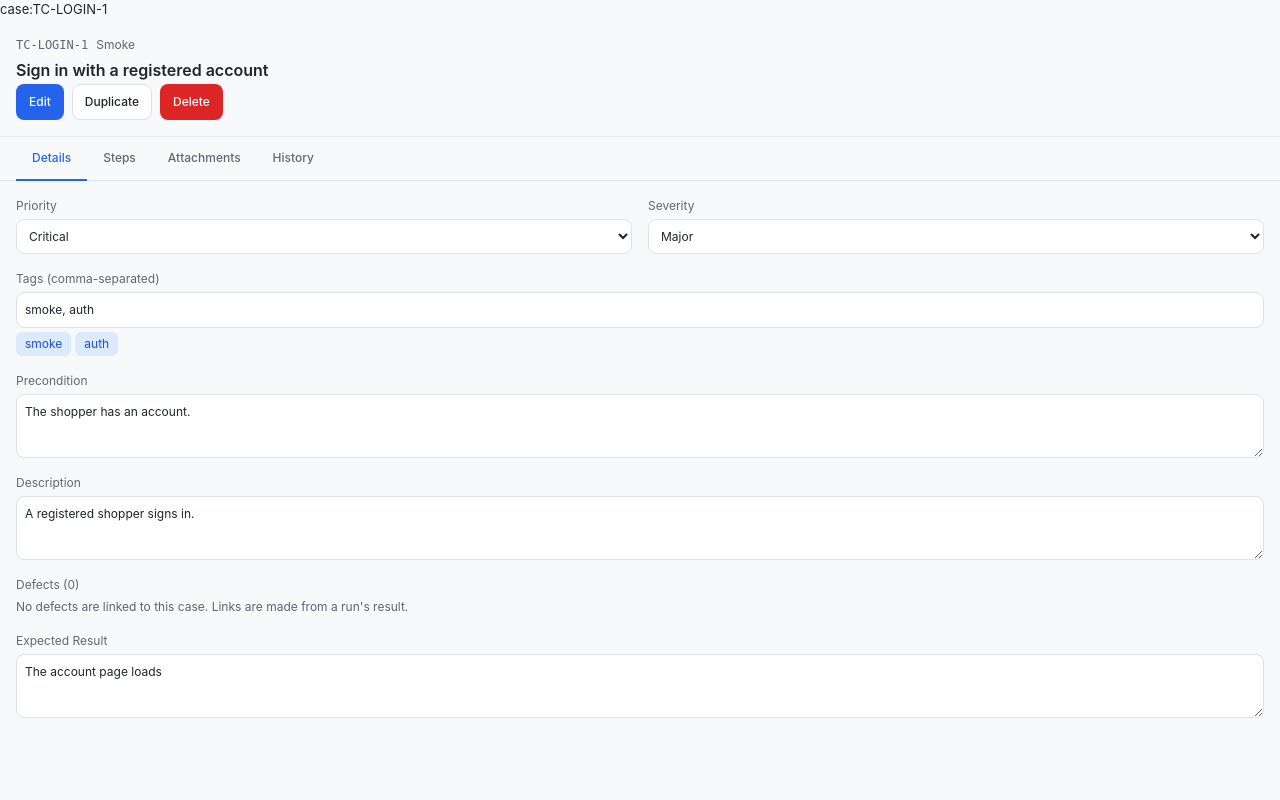
CaseDetail › duplicates a case under a new id and title and selects the copy
Expected: the heading "Sign in with a registered account" is shown, [16,60,268,80]
Click the button "Duplicate": {"x": 112, "y": 102} [72,84,152,120]
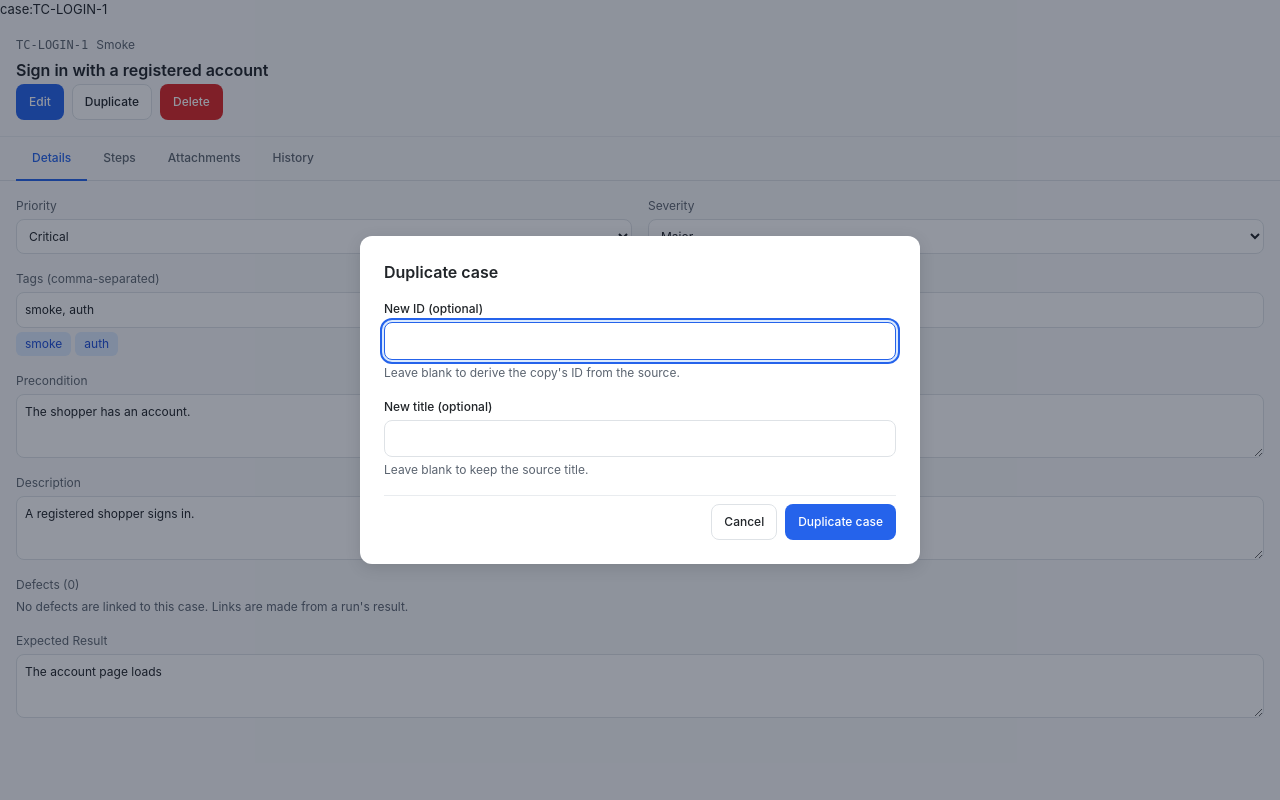
In the field labelled "New ID (optional)": {"x": 640, "y": 341} [384,322,896,360], type "TC-LOGIN-2"
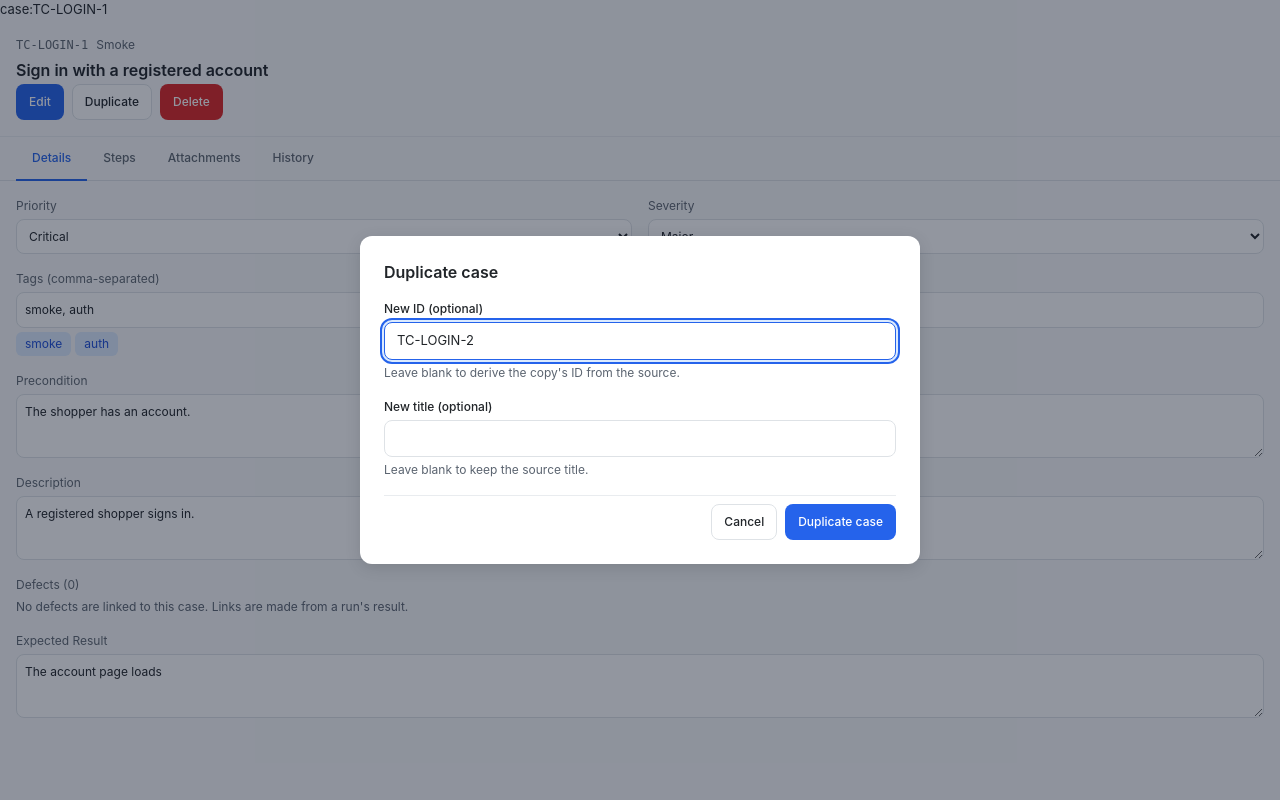
In the field labelled "New title (optional)": {"x": 640, "y": 438} [384,420,896,457], type "Sign in with a second account"
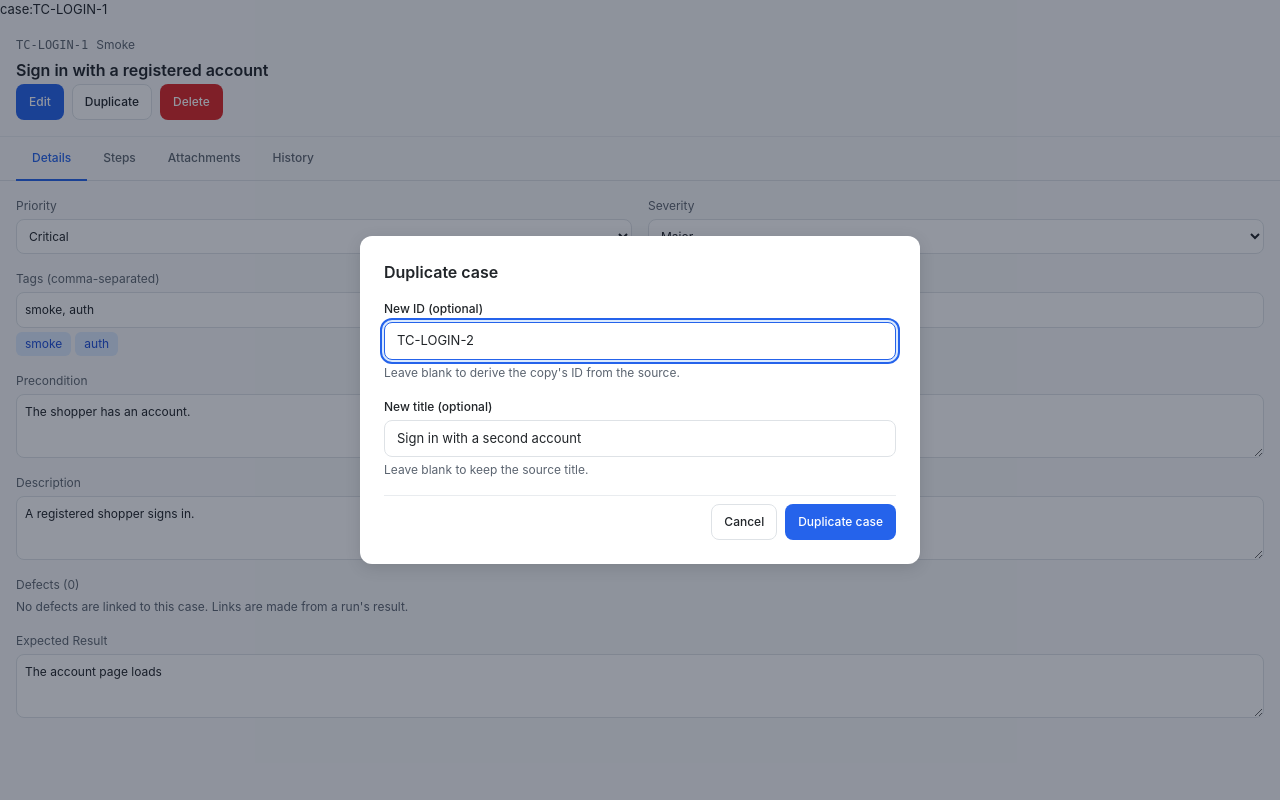
Submit the form named "Duplicate case form", box [384,300,896,540]
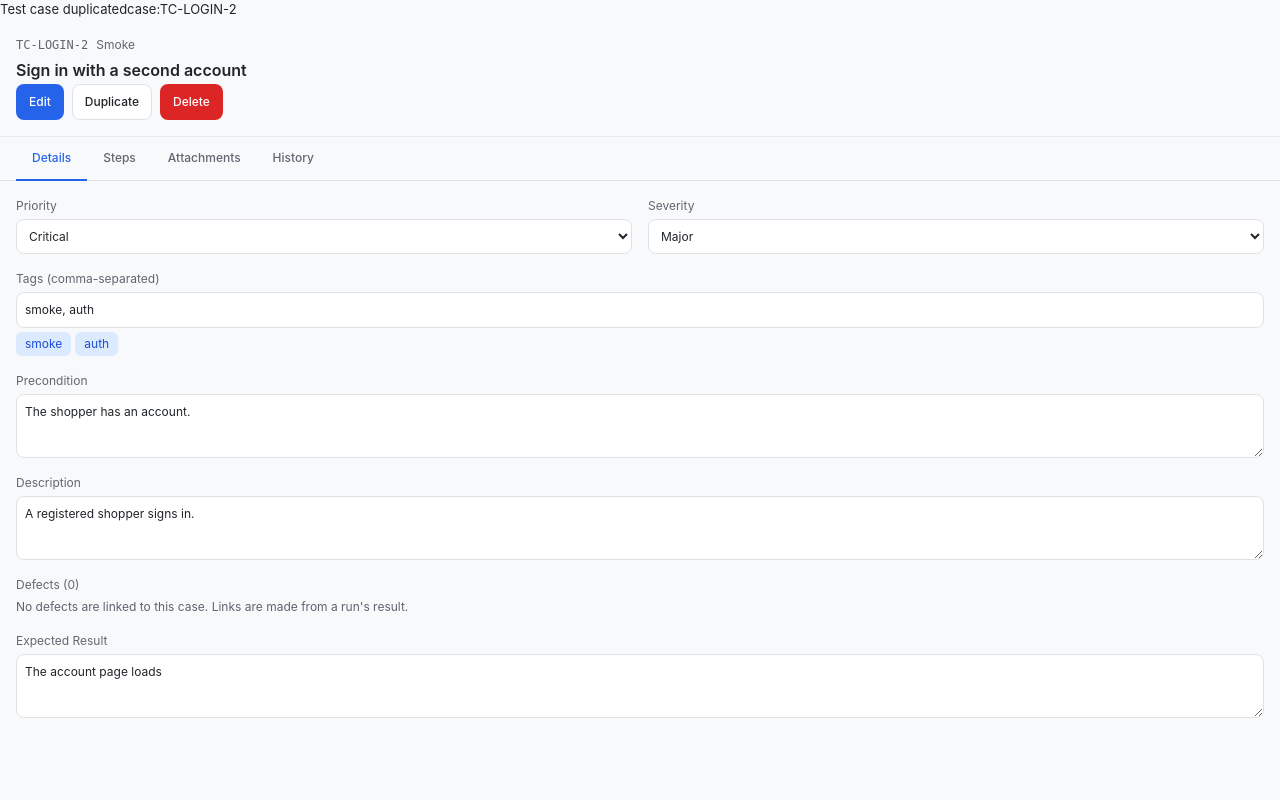
Expected: the text with test id "selection" reads "case:TC-LOGIN-2", [127,1,237,17]
Expected: the text with test id "announcement" reads "Test case duplicated", [0,1,127,17]
Expected: the heading "Sign in with a second account" is shown, [16,60,247,80]
